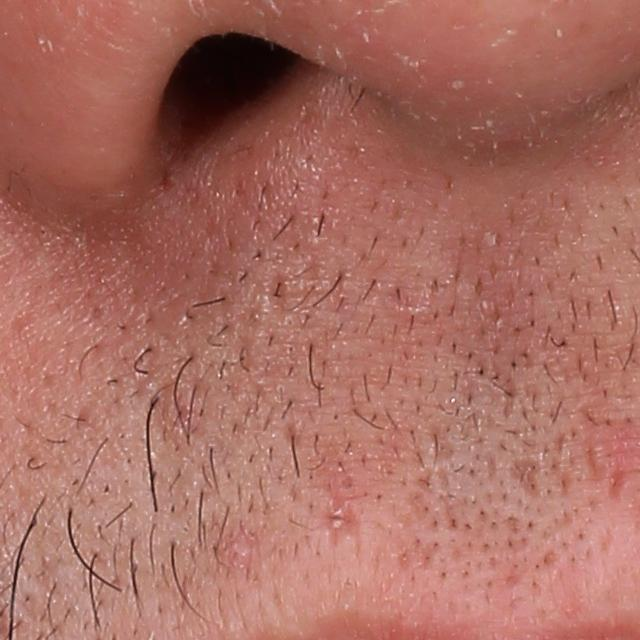atrophic_scar: (322, 473, 360, 556), (217, 512, 253, 576), (548, 427, 578, 502), (506, 453, 548, 499), (430, 429, 461, 460)
